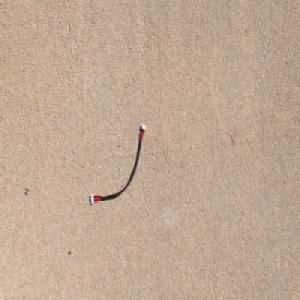Wire: (89, 123, 146, 206)
